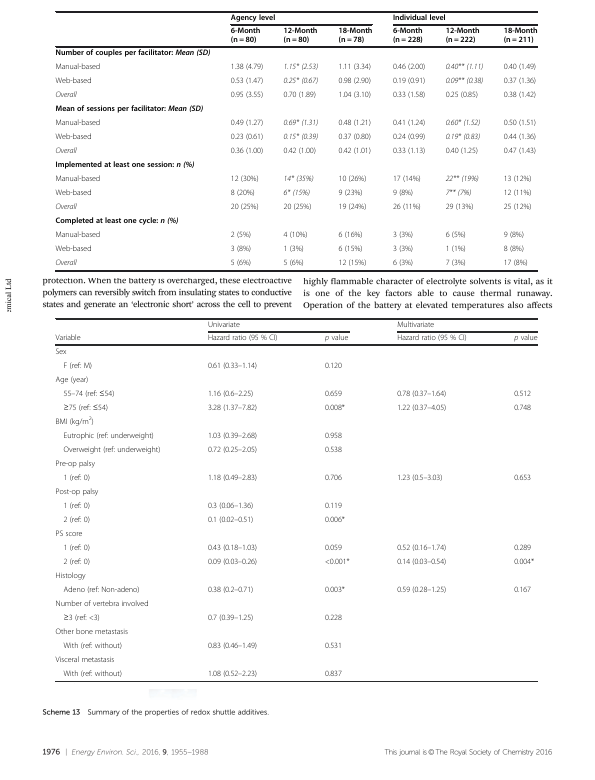borderless: (54, 317, 538, 681), (54, 10, 537, 270)
cell: (55, 49, 211, 59), (55, 105, 204, 115), (55, 161, 195, 171), (55, 217, 179, 227), (62, 445, 161, 455), (55, 599, 149, 609), (62, 431, 155, 441), (62, 585, 140, 595), (55, 627, 129, 637), (396, 334, 468, 344), (207, 334, 278, 344), (283, 27, 318, 46), (338, 27, 373, 46), (445, 27, 480, 46), (503, 27, 538, 46), (62, 641, 123, 651), (62, 669, 123, 679), (392, 27, 424, 46), (55, 655, 115, 665), (230, 27, 261, 46), (62, 389, 115, 399), (207, 361, 258, 371), (396, 389, 447, 399), (207, 403, 258, 413), (396, 403, 447, 413), (207, 431, 258, 441), (207, 445, 258, 455), (207, 473, 258, 483), (207, 543, 258, 553), (396, 543, 447, 553), (207, 557, 258, 567), (396, 557, 447, 567), (396, 585, 447, 595), (207, 641, 258, 651), (207, 669, 258, 679), (392, 14, 447, 23), (207, 389, 254, 399), (62, 403, 109, 413), (396, 473, 443, 483), (207, 501, 254, 511), (207, 515, 254, 525), (207, 585, 254, 595), (207, 613, 254, 623), (55, 416, 95, 427), (55, 487, 99, 497), (230, 14, 276, 23), (55, 63, 101, 72), (55, 119, 101, 128), (55, 175, 101, 184), (55, 231, 101, 240), (55, 459, 96, 469), (62, 613, 101, 623), (396, 321, 435, 330), (445, 63, 484, 72), (445, 77, 484, 86), (55, 375, 89, 385), (55, 77, 92, 86), (55, 133, 92, 142), (55, 189, 92, 198), (55, 245, 92, 254), (283, 63, 319, 72), (283, 77, 319, 86), (283, 119, 319, 128), (445, 119, 481, 128), (283, 133, 319, 142), (445, 133, 481, 142), (445, 175, 480, 184), (62, 361, 93, 371), (55, 571, 86, 581), (207, 321, 241, 330), (230, 63, 264, 72), (338, 63, 372, 72), (392, 63, 426, 72), (503, 63, 537, 72), (230, 77, 264, 86), (338, 77, 372, 86), (392, 77, 426, 86), (503, 77, 537, 86), (230, 91, 264, 100), (283, 91, 317, 100), (338, 91, 372, 100), (392, 91, 426, 100), (445, 91, 479, 100), (503, 91, 537, 100), (230, 119, 264, 128), (338, 119, 372, 128), (392, 119, 426, 128), (503, 119, 537, 128), (230, 133, 264, 142), (338, 133, 372, 142), (392, 133, 426, 142), (503, 133, 537, 142), (230, 147, 264, 156), (283, 147, 317, 156), (338, 147, 372, 156), (392, 147, 426, 156), (445, 147, 479, 156), (503, 147, 537, 156), (62, 473, 91, 483), (62, 501, 91, 511), (62, 515, 91, 525), (62, 543, 91, 553), (62, 557, 91, 567), (55, 529, 83, 539), (283, 175, 314, 184), (324, 557, 351, 567), (392, 175, 422, 184), (392, 203, 422, 212), (230, 175, 259, 184), (338, 175, 367, 184), (503, 175, 532, 184), (503, 189, 532, 198), (230, 203, 259, 212), (283, 203, 312, 212), (338, 203, 367, 212), (445, 203, 474, 212), (503, 203, 532, 212), (338, 259, 367, 268), (55, 334, 81, 344), (283, 189, 311, 198), (324, 334, 349, 344), (513, 334, 538, 344), (445, 189, 472, 198), (230, 189, 256, 198), (503, 259, 529, 268), (338, 189, 363, 198), (283, 231, 308, 240), (338, 231, 363, 240), (338, 245, 363, 254), (324, 403, 346, 413), (324, 515, 346, 525), (513, 557, 535, 567), (324, 585, 346, 595), (55, 91, 78, 100), (55, 147, 78, 156), (55, 203, 78, 212), (55, 259, 78, 268), (392, 189, 414, 198), (230, 231, 252, 240), (392, 231, 414, 240), (445, 231, 467, 240), (503, 231, 525, 240), (230, 245, 252, 254), (283, 245, 305, 254), (392, 245, 414, 254), (445, 245, 467, 254), (503, 245, 525, 254), (230, 259, 252, 268), (283, 259, 305, 268), (392, 259, 414, 268), (445, 259, 467, 268), (324, 361, 343, 371), (324, 389, 343, 399), (513, 389, 532, 399), (513, 403, 532, 413), (324, 431, 343, 441), (324, 445, 343, 455), (324, 473, 343, 483), (513, 473, 532, 483), (324, 501, 343, 511), (324, 543, 343, 553), (513, 543, 532, 553), (513, 585, 532, 595), (324, 613, 343, 623), (324, 641, 343, 651), (324, 669, 343, 679), (55, 347, 67, 357)
